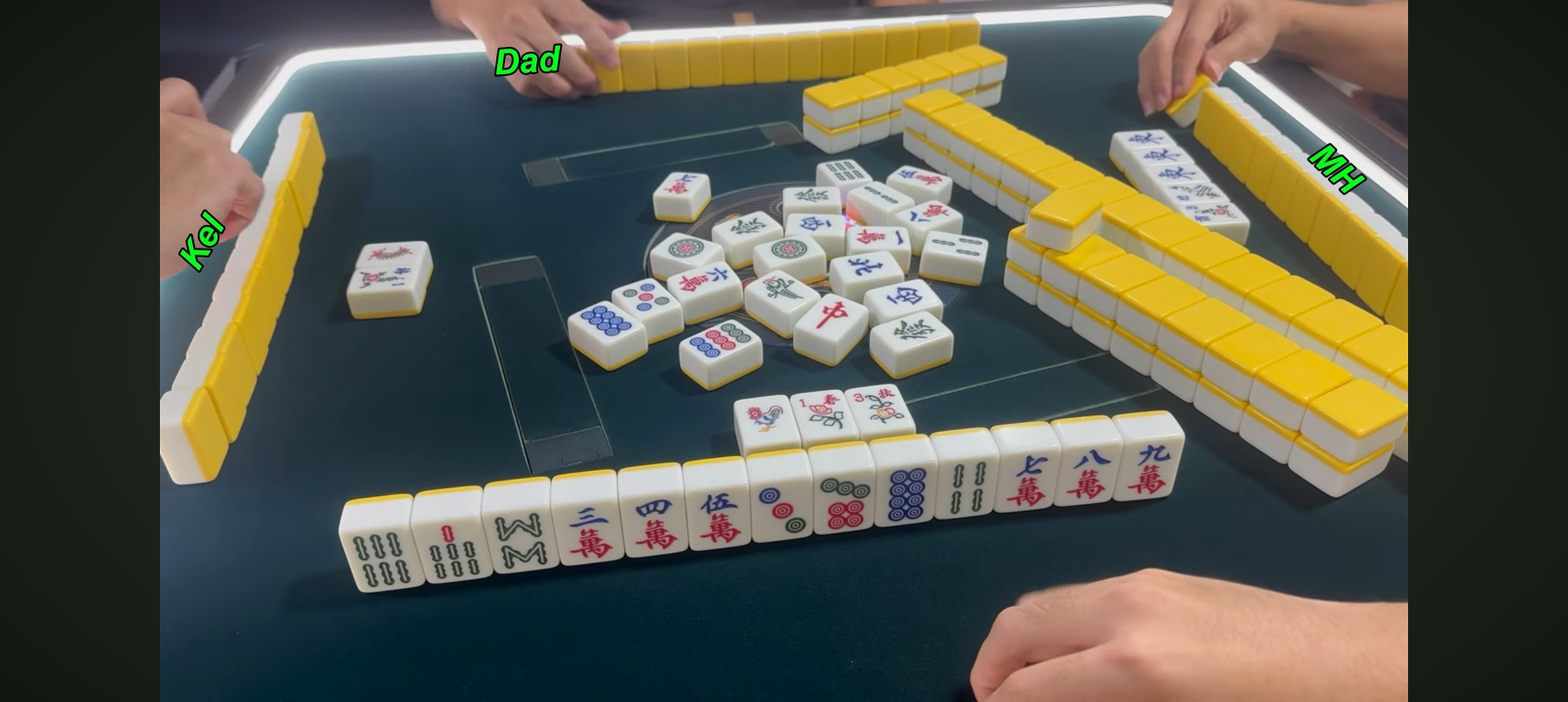TILE: (339, 526, 423, 590), (415, 519, 492, 582), (620, 492, 687, 559), (488, 509, 559, 572), (558, 501, 623, 565), (686, 488, 753, 550), (750, 481, 813, 543), (812, 474, 877, 534), (1119, 439, 1184, 498), (999, 450, 1061, 511), (938, 458, 999, 519), (876, 466, 937, 526), (1059, 446, 1120, 505), (848, 384, 916, 432), (734, 395, 796, 447), (794, 389, 849, 440)
